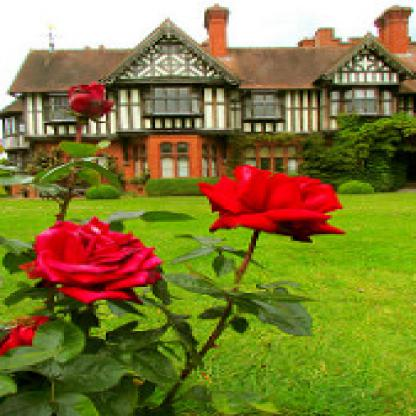Rose-Mawar: (196, 152, 348, 254), (16, 215, 161, 305), (60, 79, 117, 119)
